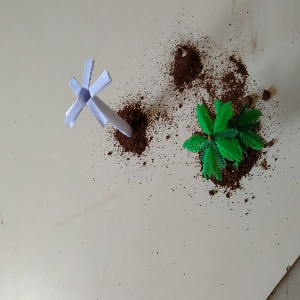plant: (187, 99, 247, 181)
weed: (65, 61, 132, 142)
